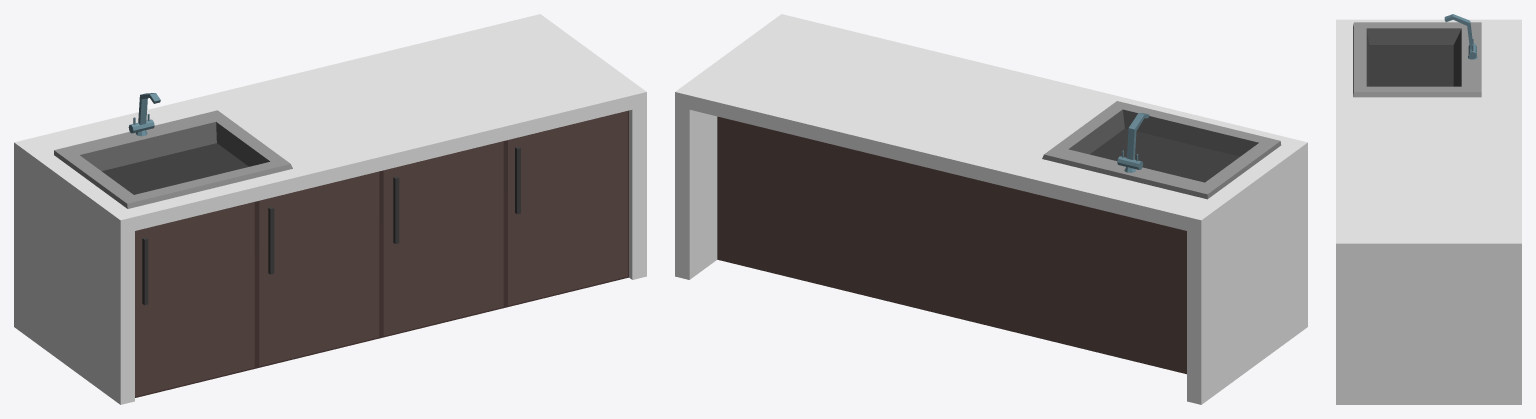
File: kitchen_item_018.glb
3 renders of one model, left to right at view 1: azimuth 30°, elevation 25°; view 2: azimuth 150°, elevation 25°; view 3: azimuth 270°, elevation 25°, orthographic. The views are drawn at different scales.
Parts seen in each view (by area): view 1: kitchen_item_018; view 2: kitchen_item_018; view 3: kitchen_item_018.
Part boxes in pixels (x1=…): kitchen_item_018: x1=14, y1=14, x2=646, y2=404; kitchen_item_018: x1=675, y1=14, x2=1307, y2=404; kitchen_item_018: x1=1336, y1=14, x2=1521, y2=404.
Size of the model in its own units: 2.38 by 1.03 by 0.8333.
Materials: 1 (1 with a texture image).
